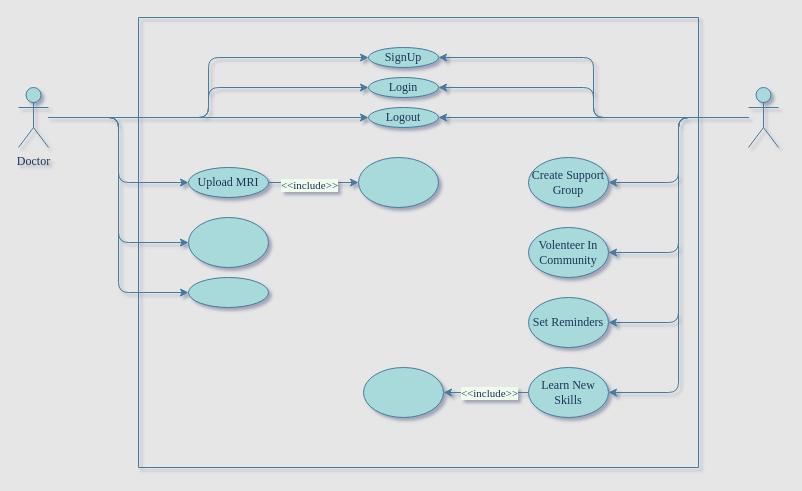
Some shapes in this 802 by 491 pixel diagram are drawn without their labels. Here are the shapes that lost their labels. From the top down, the centre of each, then its label:
At point (763, 117): "User".
At point (398, 182): "Review Detection Results".
At point (228, 242): "Send Instructions".
At point (228, 292): "Create Event".
At point (403, 392): "Display Progress".
